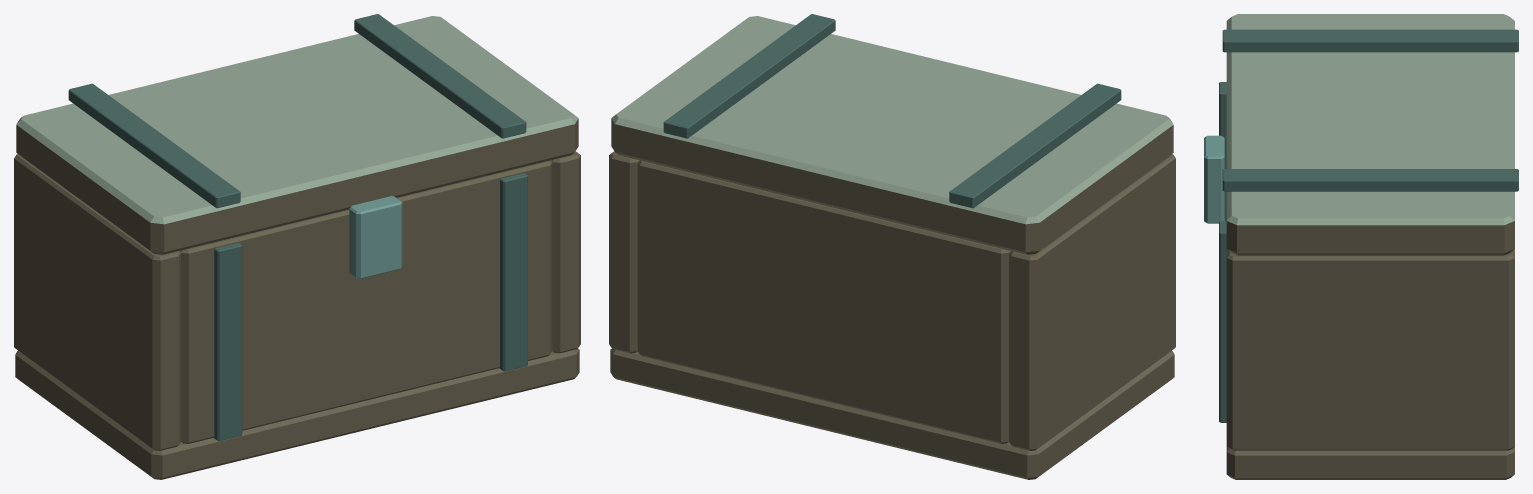
The model's file is supply-cache.glb.
The picture shows the model from 3 angles, left to right: view 1: azimuth 30°, elevation 25°; view 2: azimuth 150°, elevation 25°; view 3: azimuth 270°, elevation 25°; orthographic projection.
Parts seen in each view (by area): view 1: supply-cache__body; view 2: supply-cache__body; view 3: supply-cache__body.
Boxes of the visible parts, x1,y1,x2,y2 form: supply-cache__body: [14, 14, 580, 479]; supply-cache__body: [609, 14, 1175, 479]; supply-cache__body: [1204, 14, 1518, 479].
Size of the model in its own units: 1.2 by 0.73 by 0.765.
